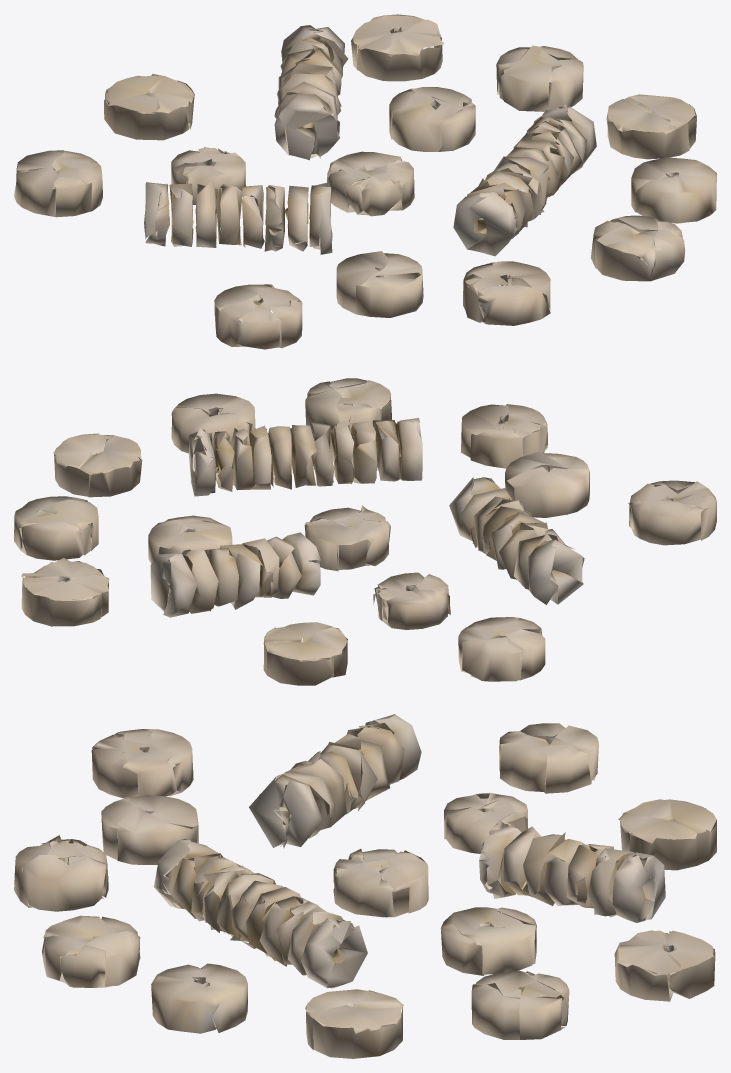
The model's file is triassic-encrinus-litter.glb.
3 renders of one model, top to bottom at view 1: azimuth 30°, elevation 25°; view 2: azimuth 150°, elevation 25°; view 3: azimuth 270°, elevation 25°, orthographic. The views are drawn at different scales.
Parts seen in each view (by area): view 1: encrinus-litter; view 2: encrinus-litter; view 3: encrinus-litter.
Part boxes in pixels (bbox=[...]): encrinus-litter: bbox=[14, 14, 716, 349]; encrinus-litter: bbox=[14, 378, 716, 685]; encrinus-litter: bbox=[14, 714, 716, 1058].
Bounding box in the file's own units: 0.6 × 0.0709 × 0.5799.
